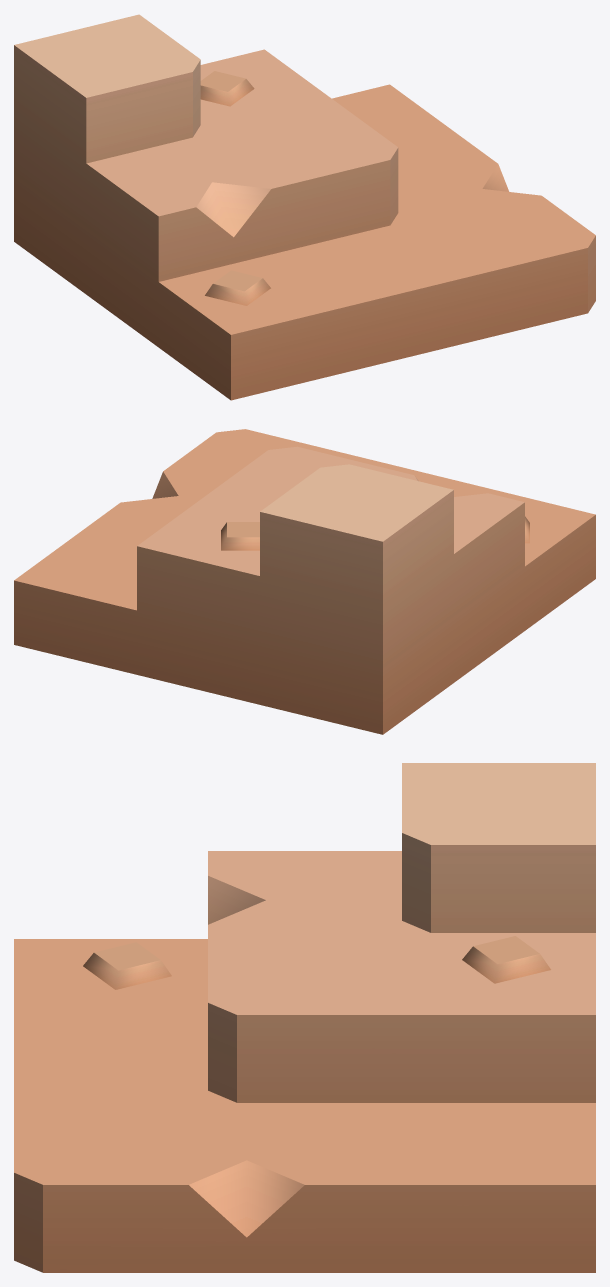
File: kenney-mini-arena-stairs-corner.glb
3 views of the same model, one above another, from view 1: azimuth 30°, elevation 25°; view 2: azimuth 150°, elevation 25°; view 3: azimuth 270°, elevation 25° (orthographic). The views are drawn at different scales.
Visible parts, largest first — view 1: stairs-corner; view 2: stairs-corner; view 3: stairs-corner.
Part boxes in pixels (left/top/right/bottom): stairs-corner: left=14, top=14, right=595, bottom=400; stairs-corner: left=14, top=429, right=595, bottom=734; stairs-corner: left=14, top=763, right=595, bottom=1272.
Size of the model in its own units: 1 by 0.5001 by 1.
1 material, 1 textured.
